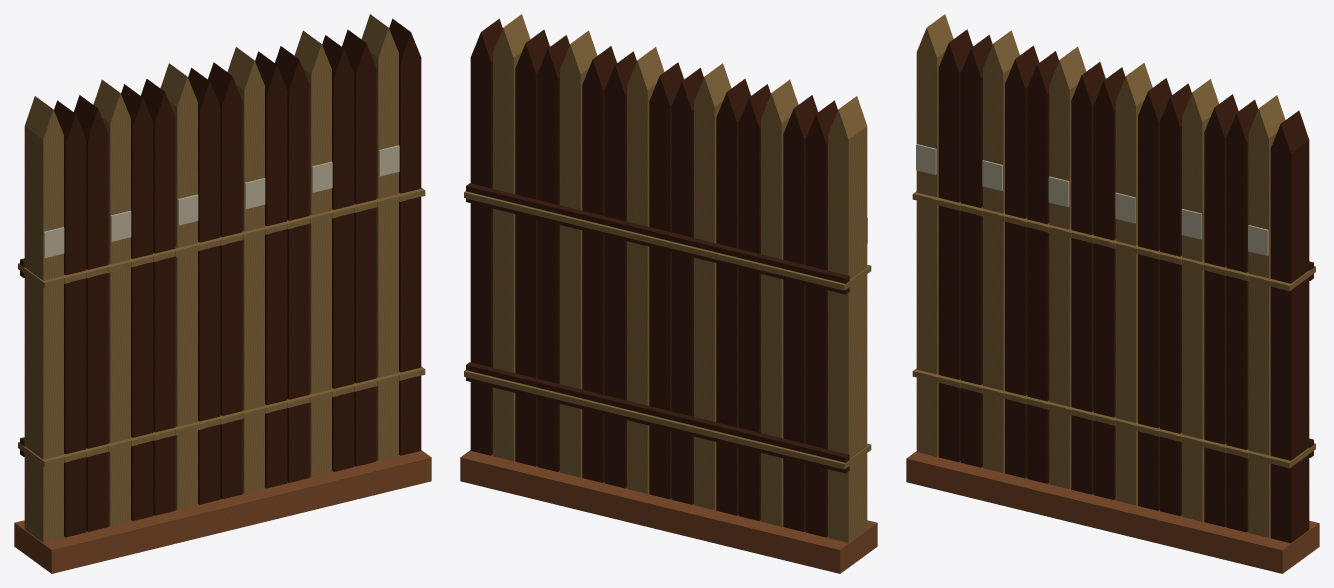
File: Berber_Palisade_Age1_gapfill_4m.fbx
3 views of the same model, side by side, from view 1: azimuth 30°, elevation 25°; view 2: azimuth 150°, elevation 25°; view 3: azimuth 330°, elevation 25° (orthographic).
Visible parts, largest first — view 1: palm_split_post.041, palm_split_post.039, palm_split_post.043, palm_split_post.036, palm_split_post.046, palm_split_post.042, earth_seat.006, palm_split_post.045, palm_split_post.048, front_lashing.006, neutral_owner_painted_stripe.006, lashing_side.006; view 2: palm_split_post.041, palm_split_post.039, palm_split_post.043, palm_split_post.036, palm_split_post.042, palm_split_post.046, earth_seat.006, continuous_rear_tie.006, palm_split_post.045, palm_split_post.048, back_lashing.006, lashing_side.006; view 3: palm_split_post.043, palm_split_post.039, palm_split_post.041, palm_split_post.036, palm_split_post.046, palm_split_post.042, earth_seat.006, palm_split_post.048, palm_split_post.045, front_lashing.006, neutral_owner_painted_stripe.006, lashing_side.006.
Boxes of the visible parts, x1,y1,x2,y2 form: palm_split_post.041: [74, 29, 376, 531]; palm_split_post.039: [54, 35, 354, 537]; palm_split_post.043: [121, 18, 421, 520]; palm_split_post.036: [24, 30, 331, 542]; palm_split_post.046: [188, 46, 309, 504]; palm_split_post.042: [93, 14, 398, 526]; earth_seat.006: [14, 450, 431, 573]; palm_split_post.045: [160, 63, 197, 510]; palm_split_post.048: [227, 47, 264, 493]; front_lashing.006: [43, 189, 423, 466]; neutral_owner_painted_stripe.006: [43, 145, 399, 258]; lashing_side.006: [18, 187, 425, 467]; palm_split_post.041: [515, 29, 817, 531]; palm_split_post.039: [537, 35, 837, 537]; palm_split_post.043: [470, 18, 770, 520]; palm_split_post.036: [560, 30, 867, 542]; palm_split_post.042: [493, 14, 798, 526]; palm_split_post.046: [582, 46, 703, 504]; earth_seat.006: [460, 450, 877, 573]; continuous_rear_tie.006: [466, 183, 849, 473]; palm_split_post.045: [694, 63, 731, 510]; palm_split_post.048: [627, 47, 664, 493]; back_lashing.006: [464, 192, 844, 469]; lashing_side.006: [464, 191, 871, 469]; palm_split_post.043: [1005, 45, 1309, 543]; palm_split_post.039: [938, 29, 1238, 526]; palm_split_post.041: [960, 35, 1258, 532]; palm_split_post.036: [916, 14, 1218, 521]; palm_split_post.046: [1071, 62, 1191, 516]; palm_split_post.042: [983, 30, 1285, 537]; earth_seat.006: [906, 451, 1319, 573]; palm_split_post.048: [1115, 63, 1152, 505]; palm_split_post.045: [1049, 46, 1086, 489]; front_lashing.006: [914, 193, 1290, 467]; neutral_owner_painted_stripe.006: [916, 144, 1268, 255]; lashing_side.006: [912, 191, 1315, 468].
Size of the model in its own units: 401 by 458 by 68.29.
Materials: 4 (4 with a texture image).
